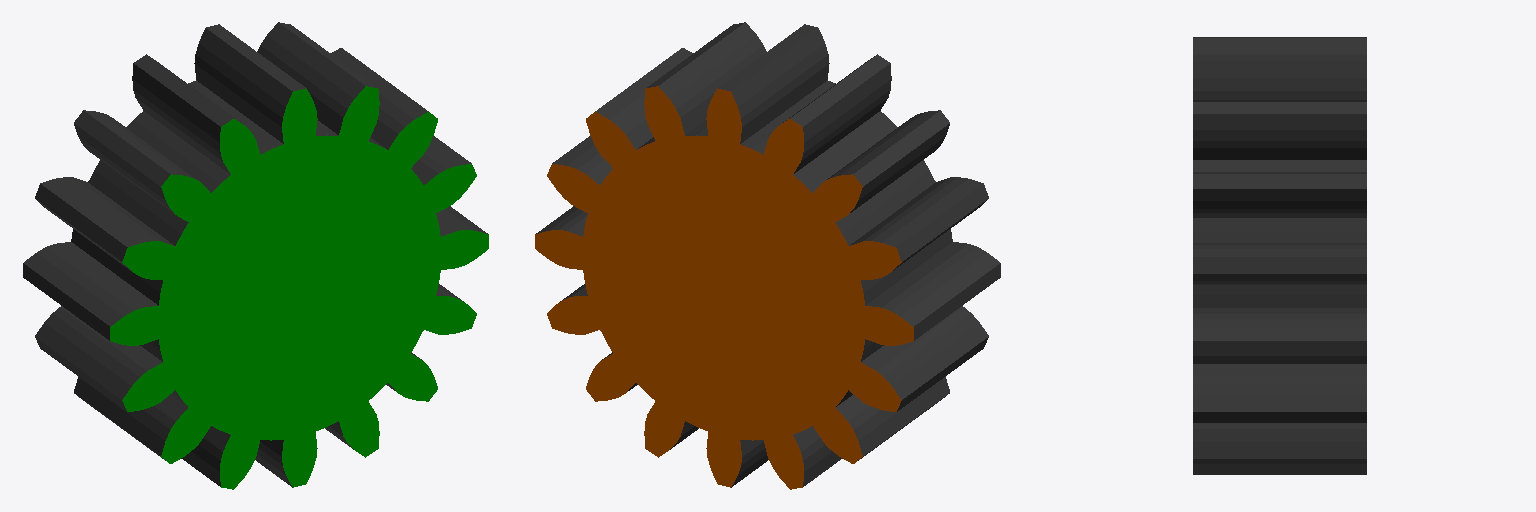
Rendered from gear16a.obj.
3 views of the same model, side by side, from view 1: azimuth 30°, elevation 25°; view 2: azimuth 150°, elevation 25°; view 3: azimuth 270°, elevation 25° (orthographic).
Parts seen in each view (by area): view 1: mesh01; view 2: mesh01; view 3: mesh01.
Part boxes in pixels (x1,y1,x2,y2): mesh01: (23, 22, 488, 489); mesh01: (535, 22, 1000, 489); mesh01: (1193, 37, 1366, 474).
Size of the model in its own units: 5 by 5 by 2.